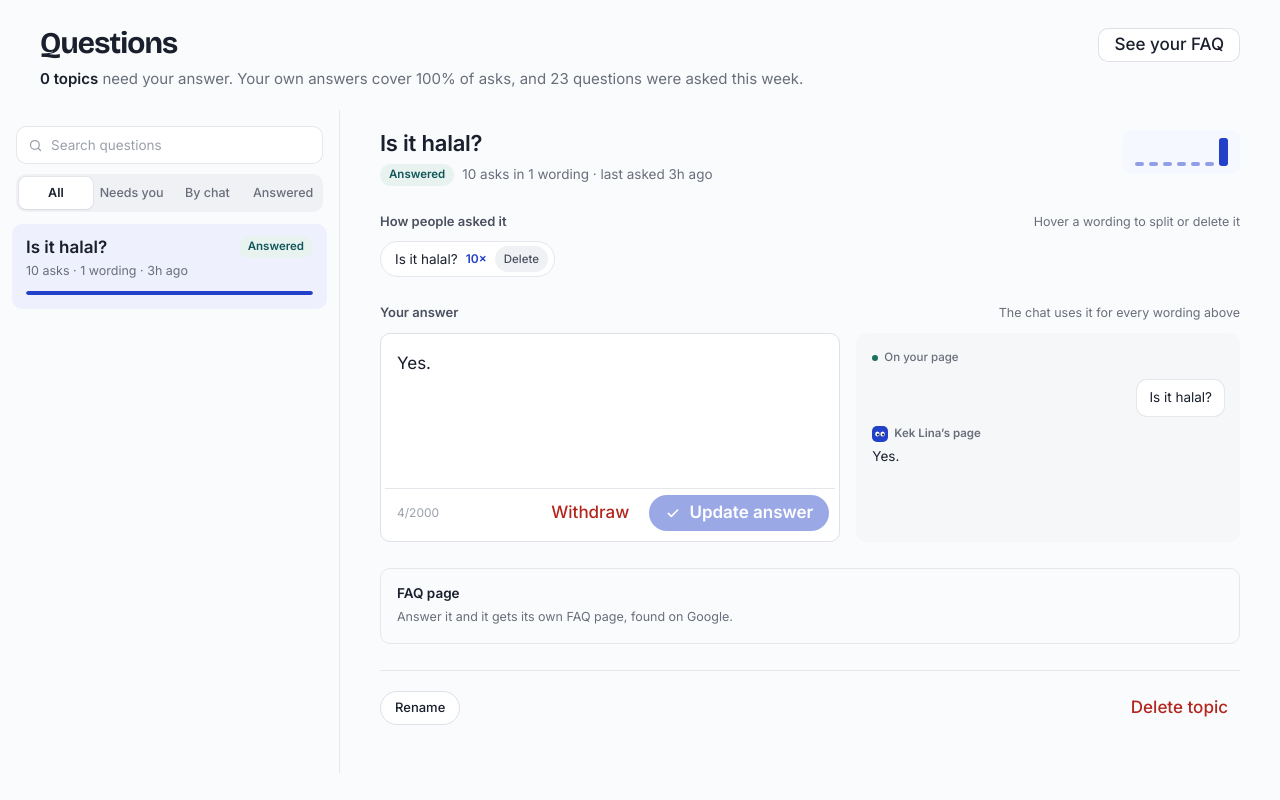
QuestionsScreen, the list › says so when nothing needs you
The width and height of the screenshot is (1280, 800).
Click the tab "Needs you".
click(132, 193)  # box [95,177,169,209]
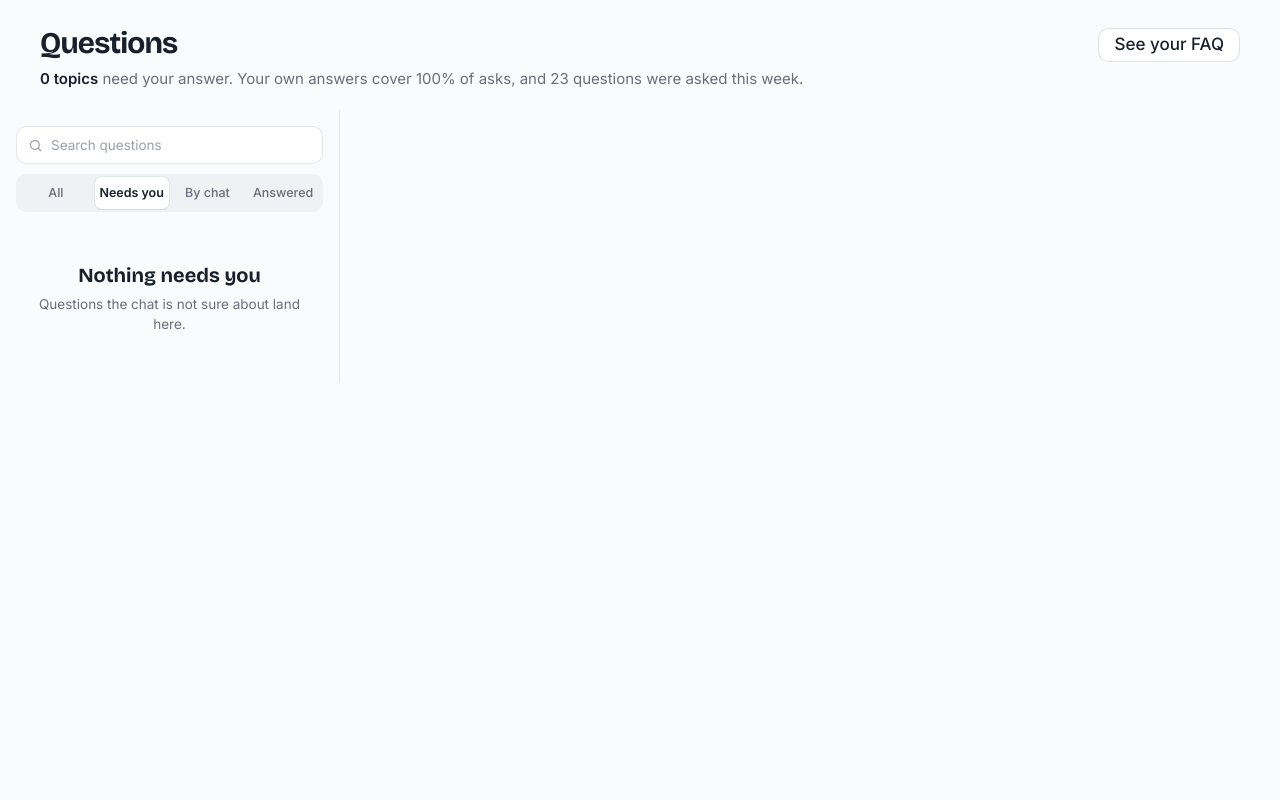
Now the text "Nothing needs you" is shown, box [78,263,261,287]
